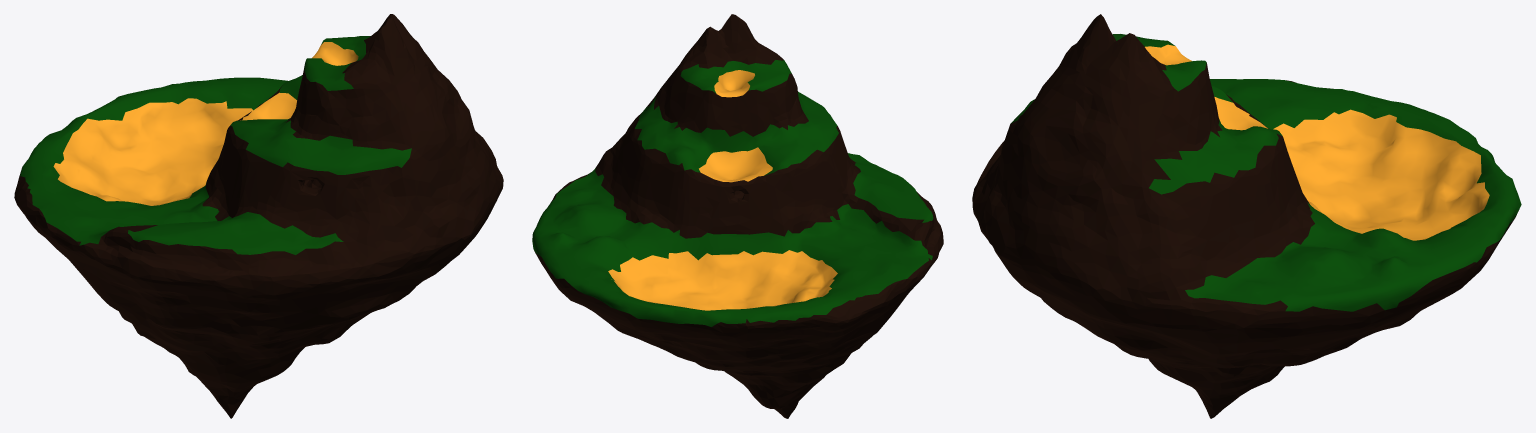
File: IsleUpdate.FBX
The picture shows the model from 3 angles, left to right: view 1: azimuth 30°, elevation 25°; view 2: azimuth 150°, elevation 25°; view 3: azimuth 270°, elevation 25°; orthographic projection. The views are drawn at different scales.
Visible parts, largest first — view 1: Group31593; view 2: Group31593; view 3: Group31593.
Boxes of the visible parts, bbox=[...] form: Group31593: bbox=[14, 14, 503, 418]; Group31593: bbox=[532, 14, 943, 418]; Group31593: bbox=[972, 14, 1521, 418].
Size of the model in its own units: 6768842 by 6360328 by 6806328.
